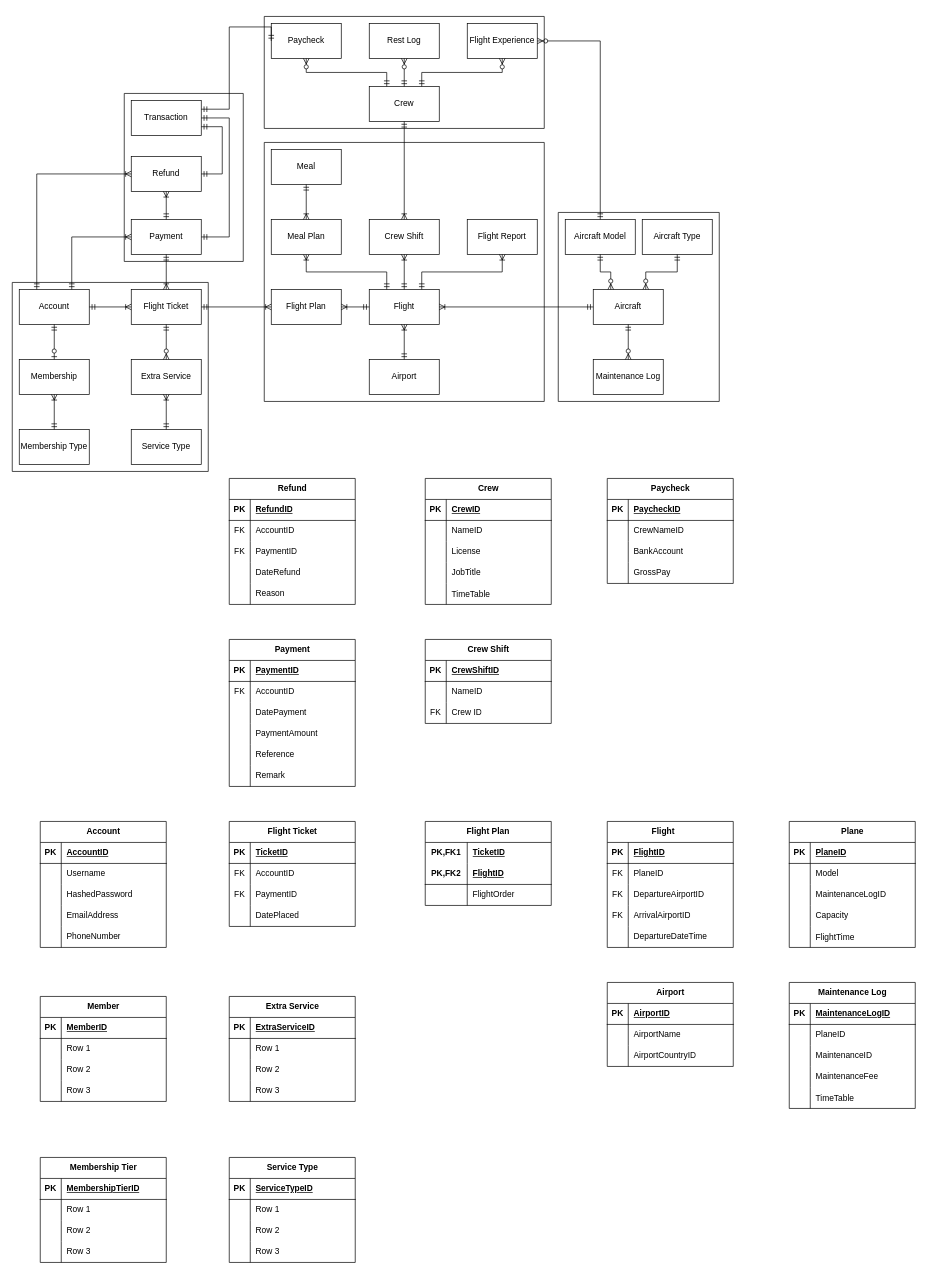
The diagram is 928 pixels wide and 1275 high, and some of its shapes have lost their labels. The shapes that lost their labels are listed below. From the top down, each one's centre as x and y in pixels, then its label:
At (404,72): "Ng Yu Heng".
At (183,177): "Nick".
At (404,271): "Mine".
At (638,306): "Ren Jun".
At (110,376): "Hong Jun".
